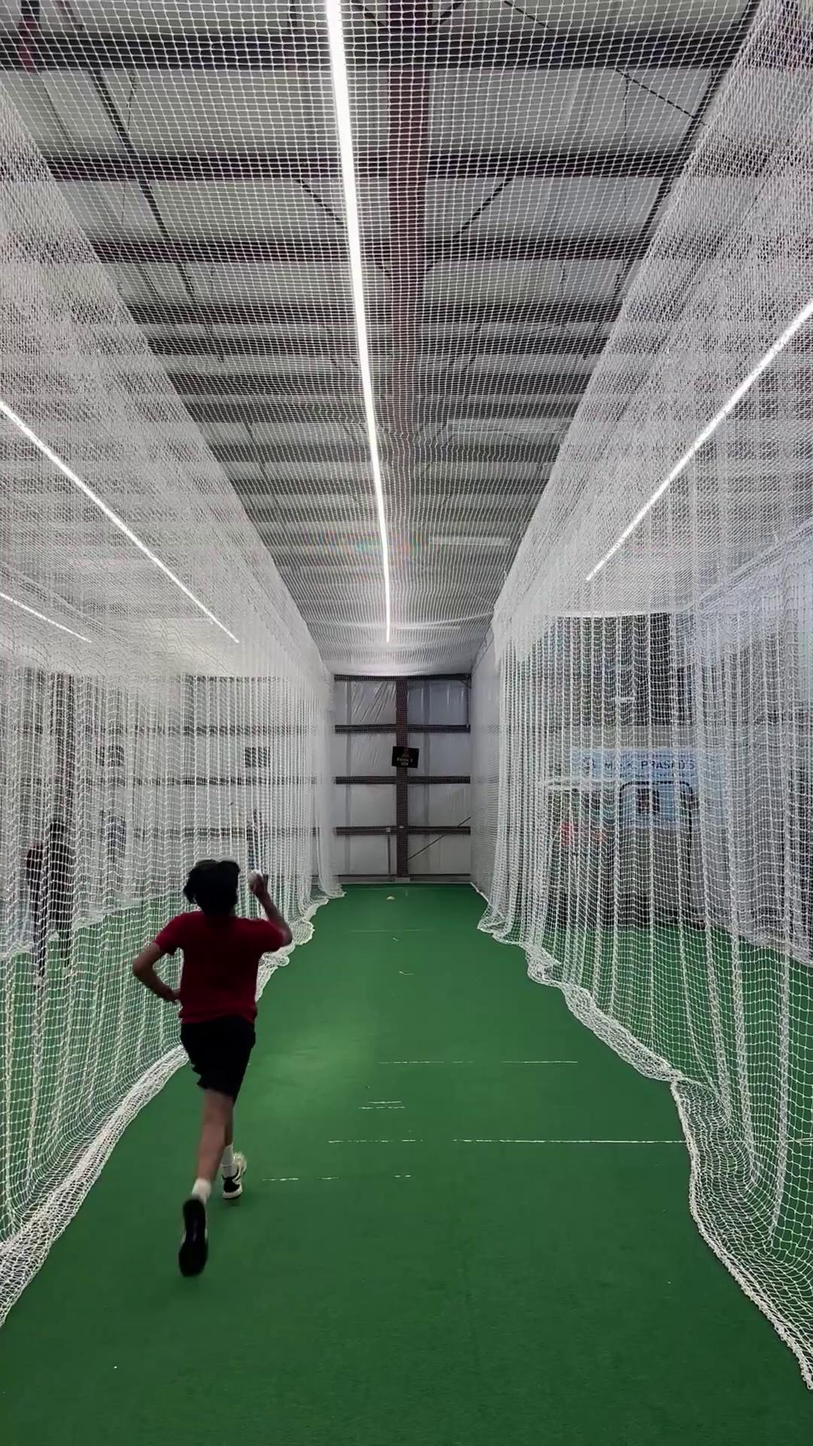ball: (242, 865, 268, 889)
